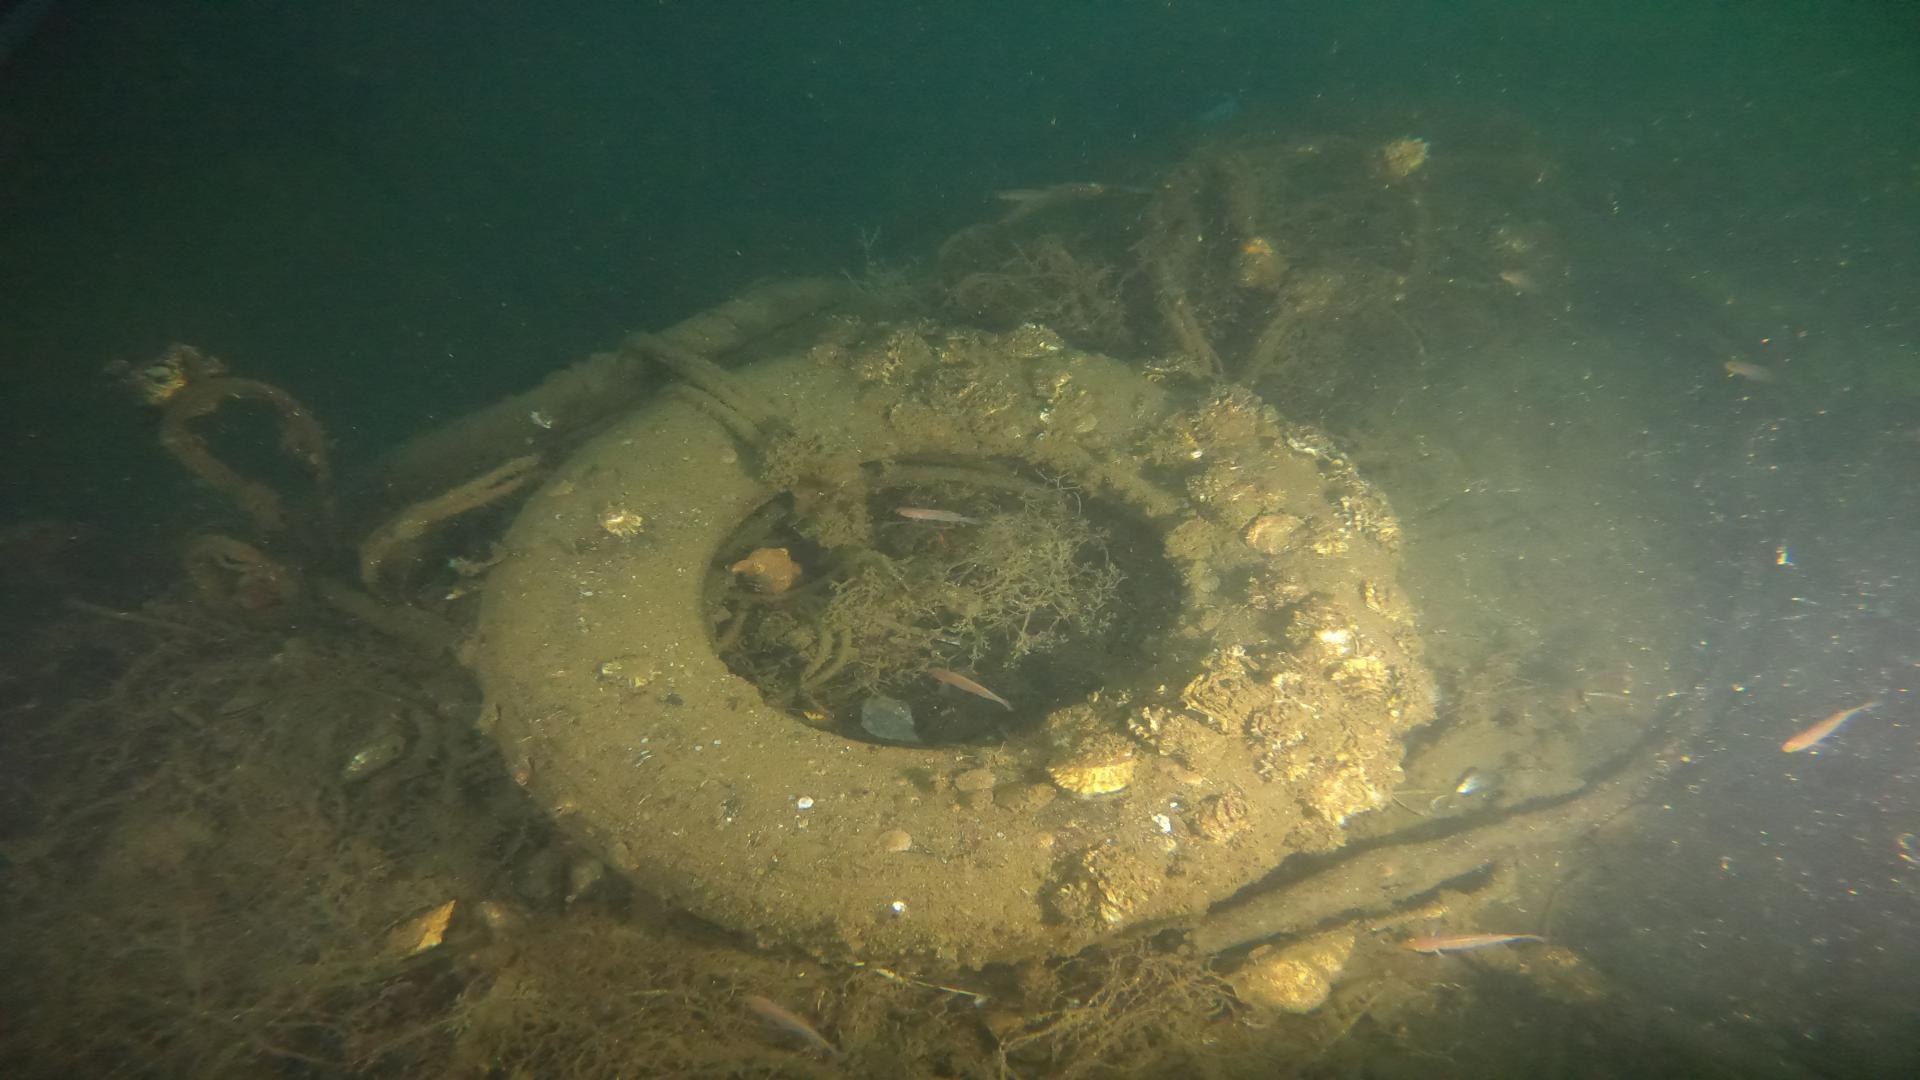tire: (473, 334, 1415, 968)
